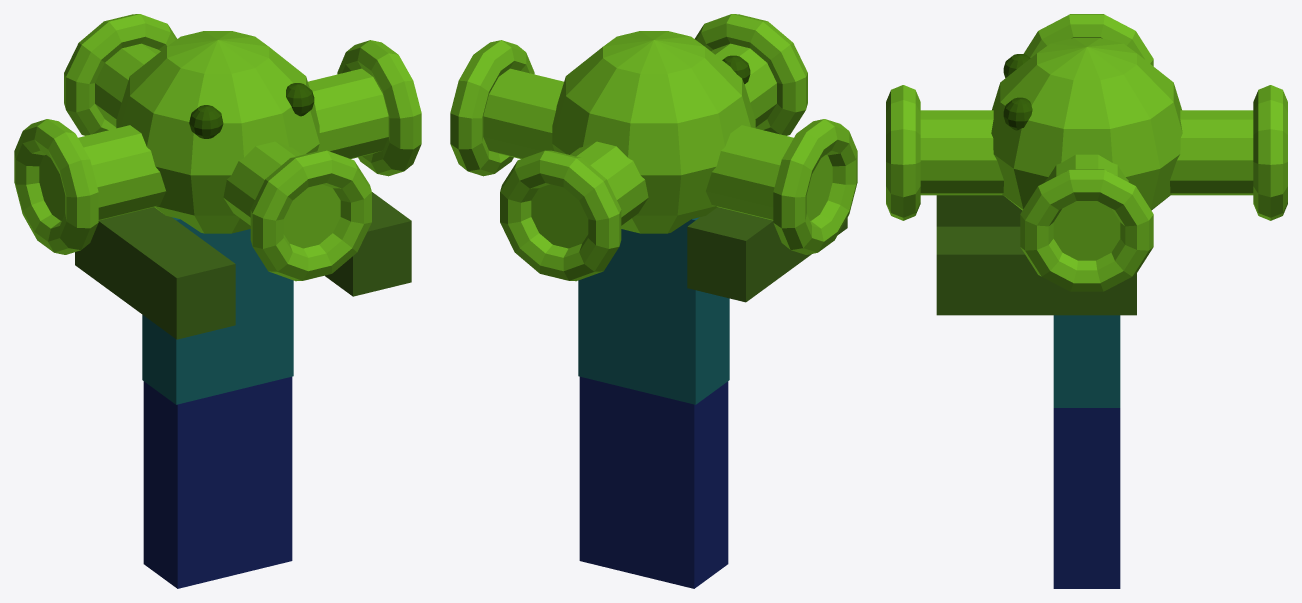
File: zombieshooter2.obj
3 renders of one model, left to right at view 1: azimuth 30°, elevation 25°; view 2: azimuth 150°, elevation 25°; view 3: azimuth 270°, elevation 25°, orthographic.
Visible parts, largest first — view 1: torus, sphere, rightLeg, body, rightArm, leftLeg, leftArm; view 2: torus, sphere, body, rightLeg, leftLeg, rightArm; view 3: torus, sphere, leftLeg, leftArm, body, rightArm.
Part boxes in pixels (x1=…): torus: x1=14, y1=14, x2=421, y2=281; sphere: x1=116, y1=31, x2=319, y2=233; rightLeg: x1=143, y1=381, x2=233, y2=588; body: x1=142, y1=217, x2=293, y2=404; rightArm: x1=75, y1=207, x2=235, y2=339; leftLeg: x1=233, y1=376, x2=292, y2=575; leftArm: x1=325, y1=192, x2=411, y2=296; torus: x1=450, y1=14, x2=857, y2=281; sphere: x1=552, y1=31, x2=755, y2=233; body: x1=578, y1=217, x2=729, y2=404; rightLeg: x1=638, y1=381, x2=728, y2=588; leftLeg: x1=579, y1=376, x2=638, y2=575; rightArm: x1=687, y1=207, x2=847, y2=302; torus: x1=886, y1=14, x2=1287, y2=291; sphere: x1=991, y1=38, x2=1182, y2=210; leftLeg: x1=1053, y1=408, x2=1120, y2=588; leftArm: x1=936, y1=226, x2=1136, y2=315; body: x1=1053, y1=315, x2=1120, y2=407; rightArm: x1=936, y1=195, x2=1022, y2=226.
Size of the model in its own units: 1.5 by 2.12 by 1.5.
Materials: 1 (1 with a texture image).
